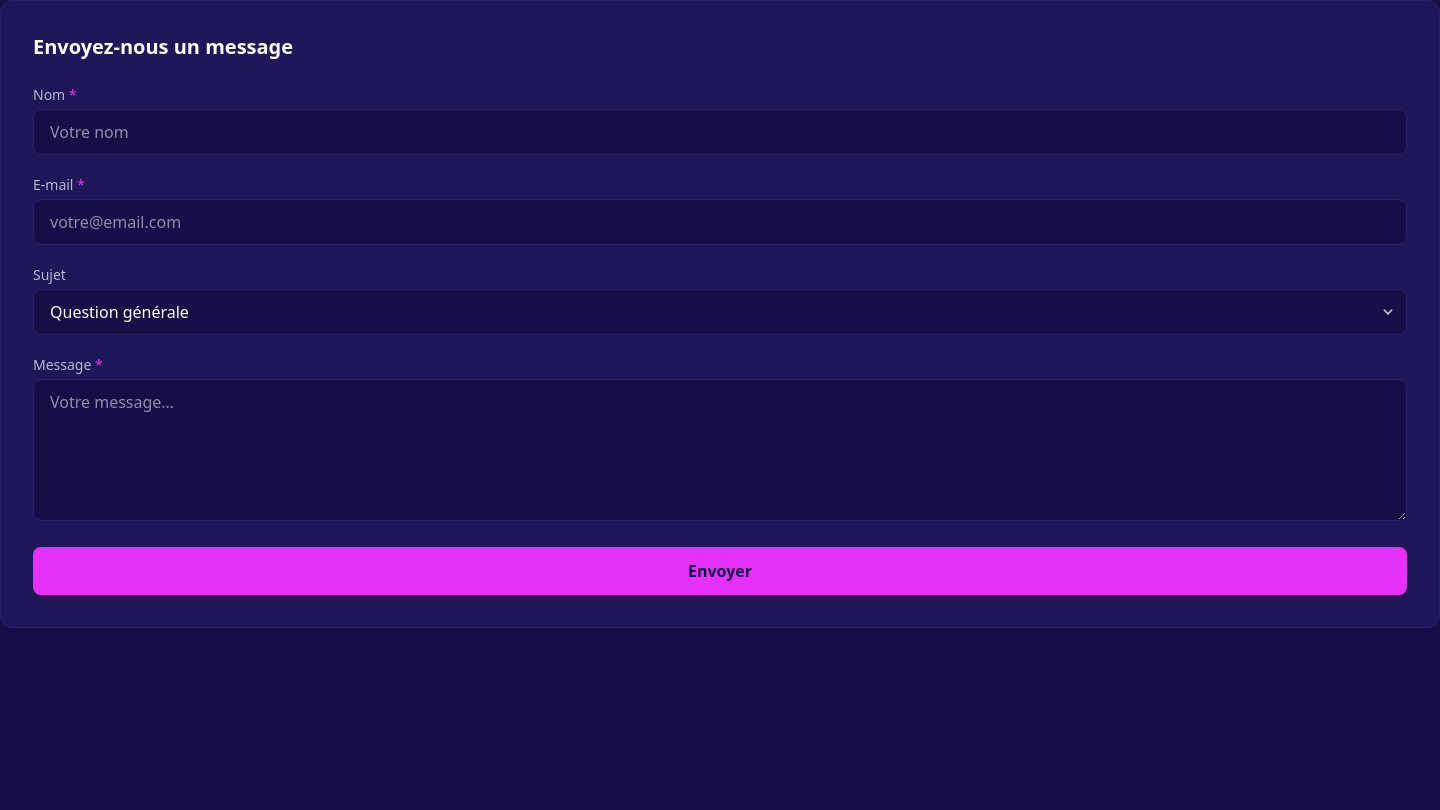
Test: ContactForm › affiche une erreur si l'e-mail est invalide
This screenshot has width=1440, height=810.
In the field labelled "Nom *": {"x": 720, "y": 132} [33, 109, 1407, 155], type "Jean"
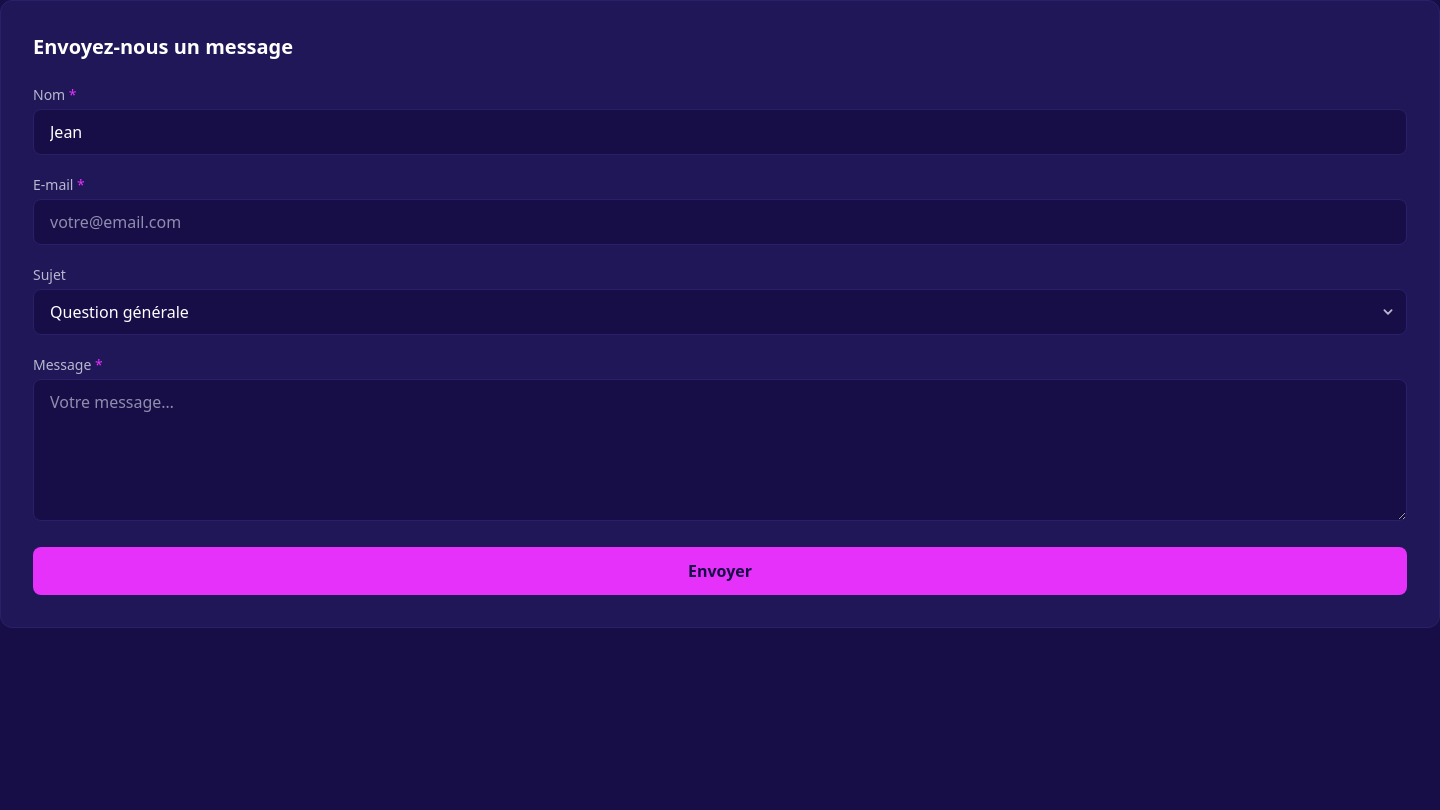
In the field labelled "E-mail *": {"x": 720, "y": 222} [33, 199, 1407, 245], type "pas-un-email"
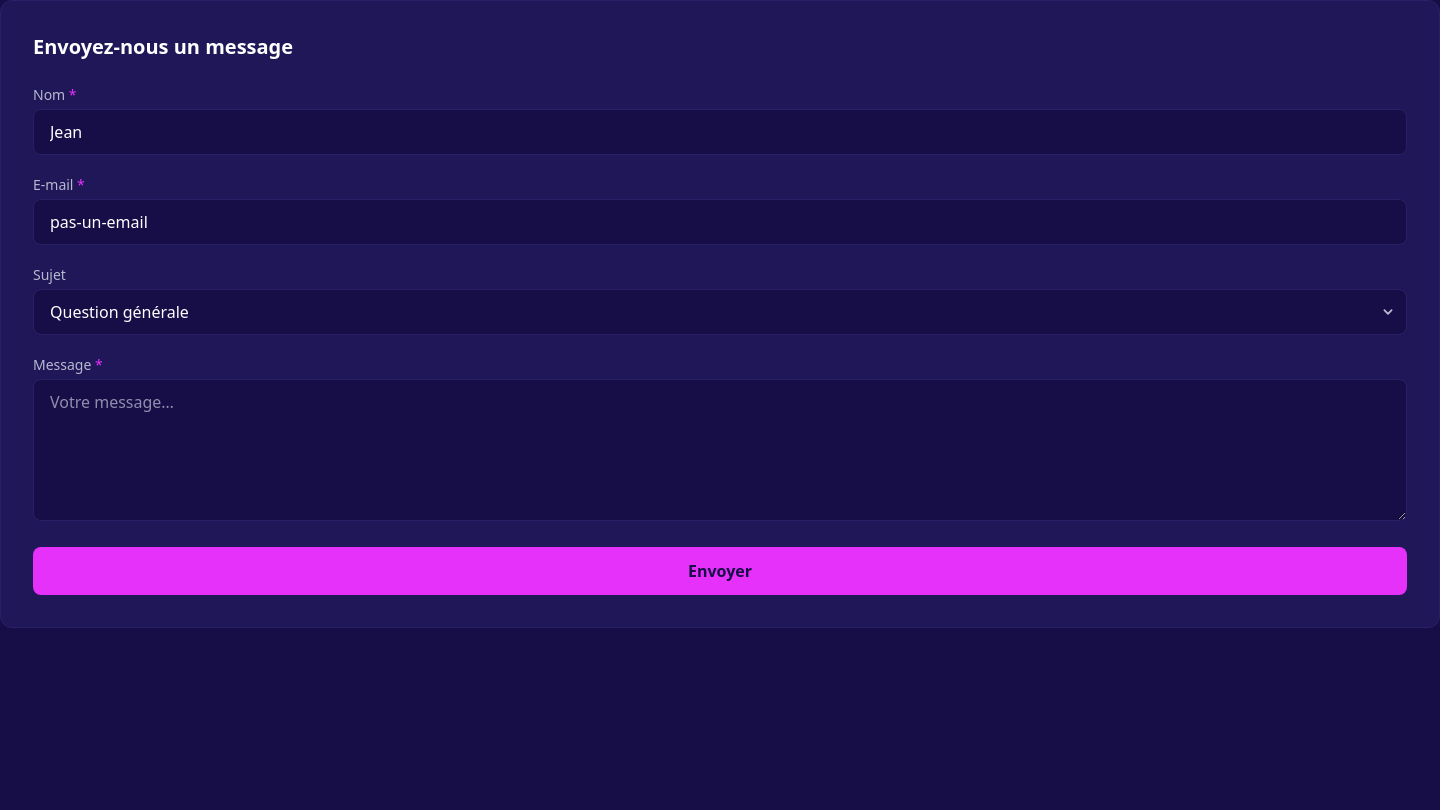
In the text box labelled "Message *": {"x": 720, "y": 450} [33, 379, 1407, 521], type "Un message"
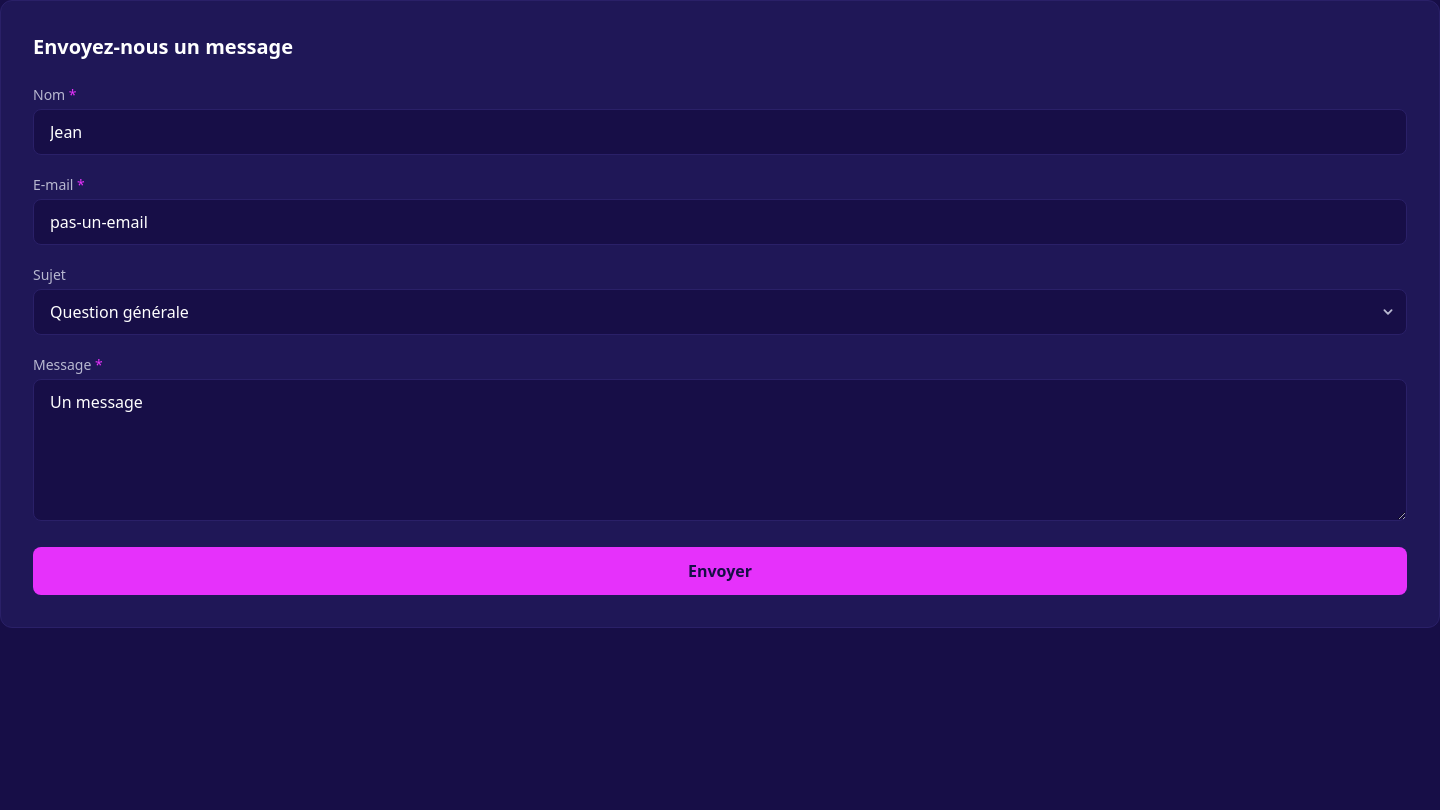
Submit the form
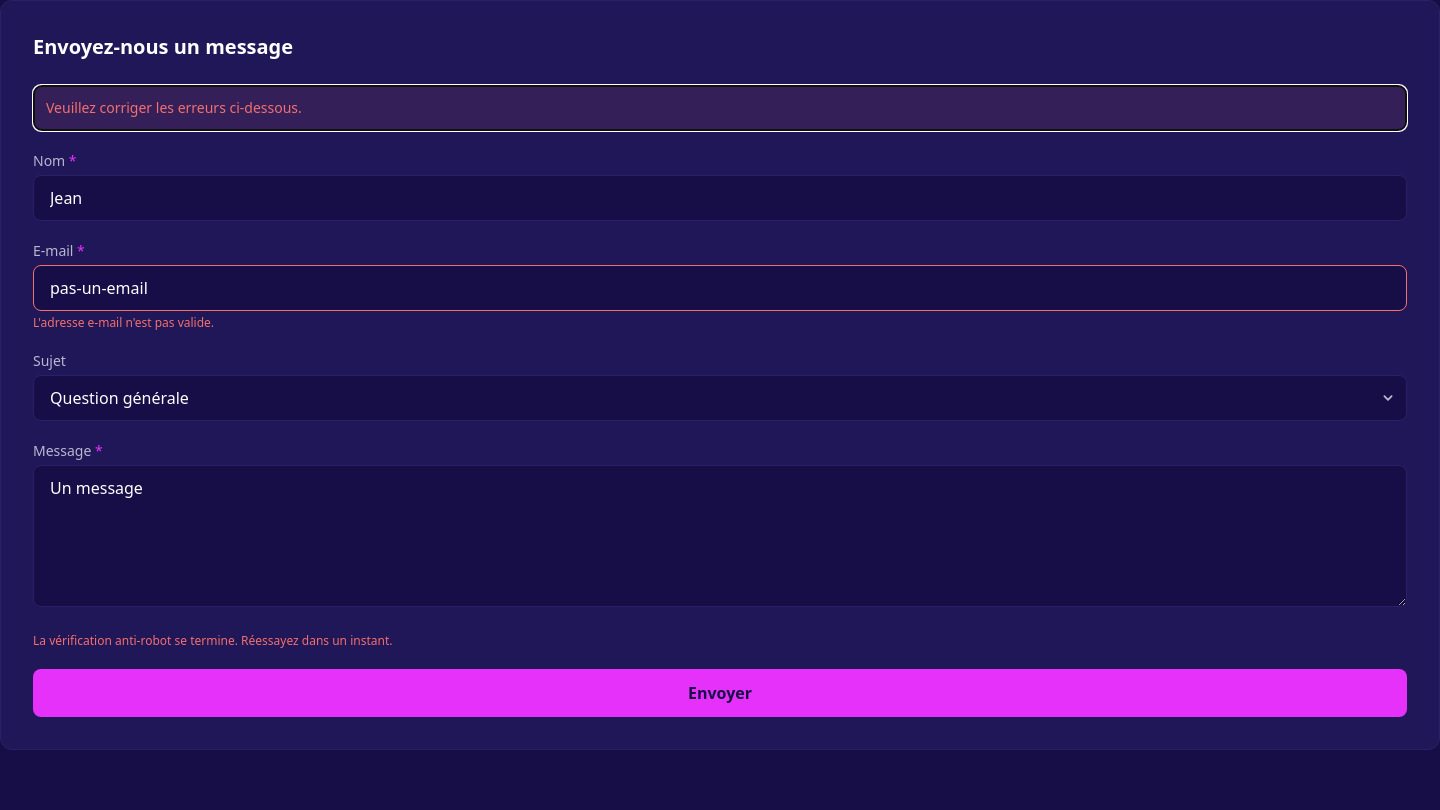
Expected: the text "L'adresse e-mail n'est pas valide." is shown, [33, 314, 214, 331]
